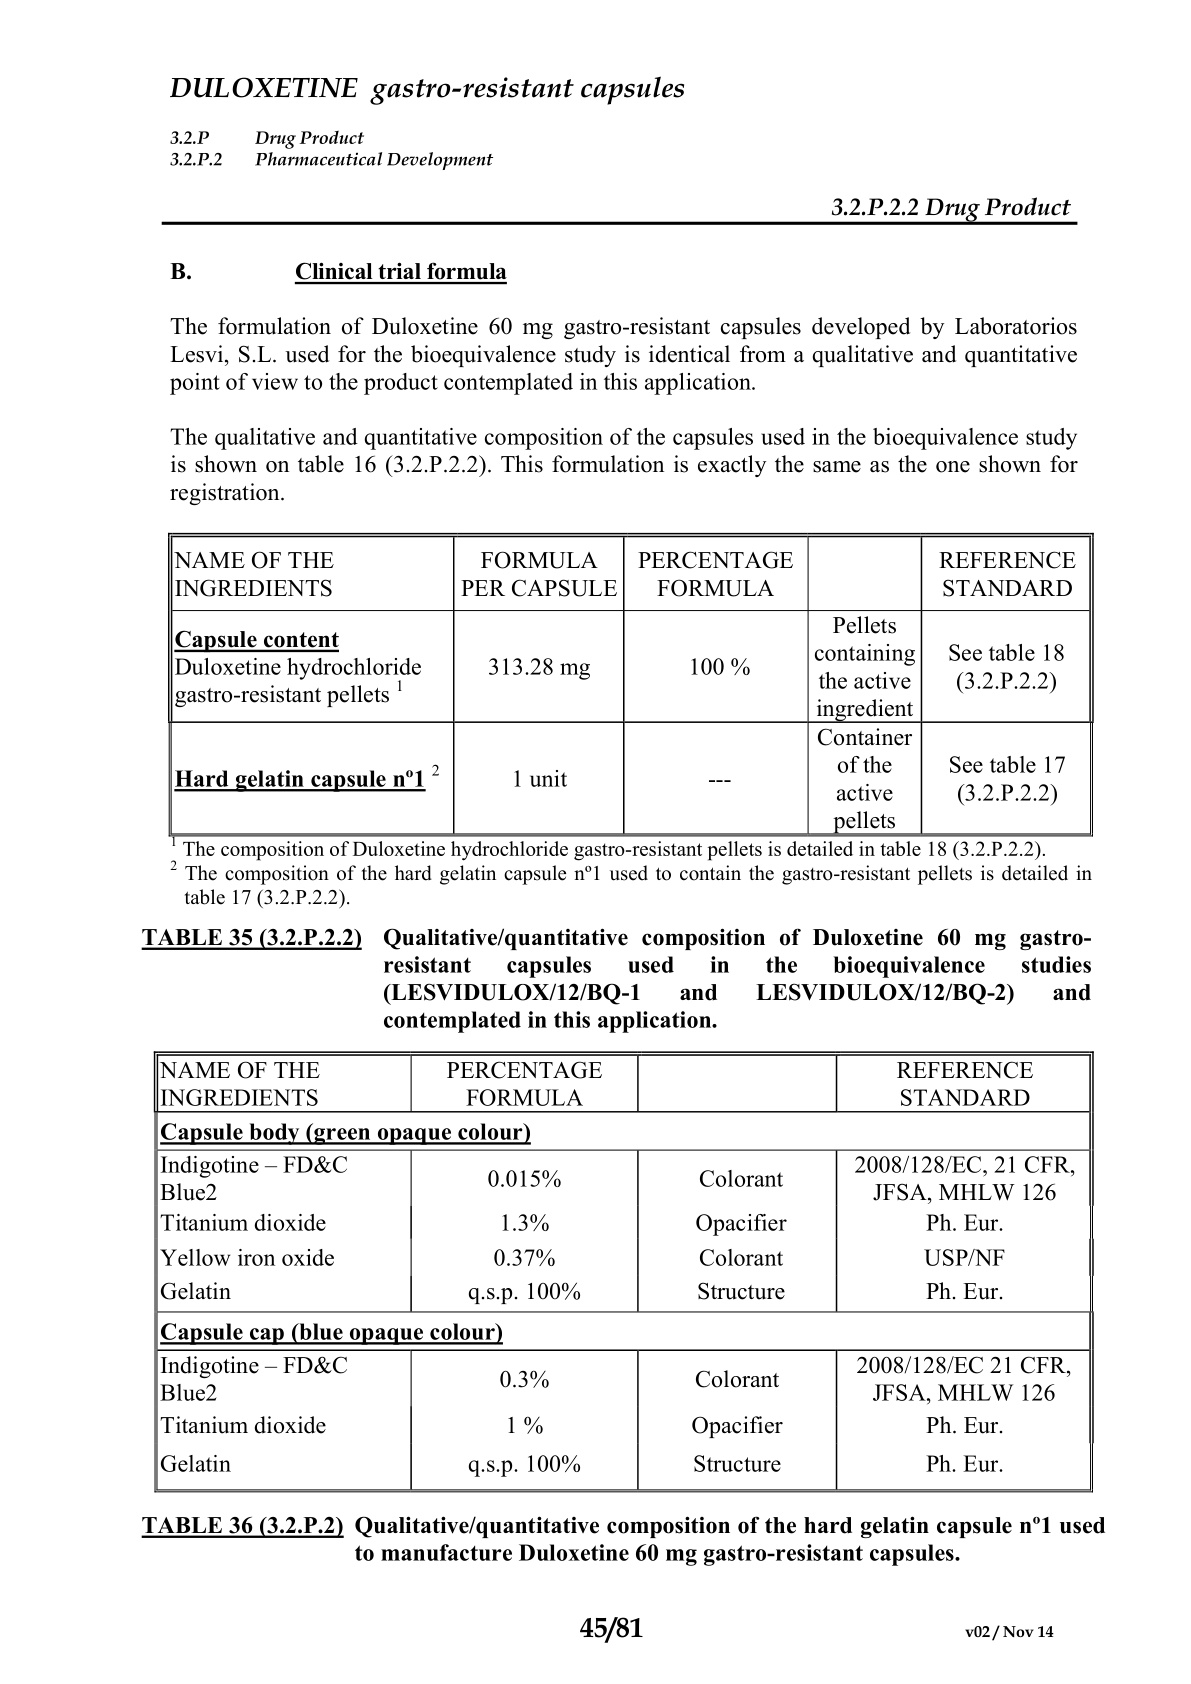full_lined: (166, 532, 1094, 837)
merged_cells: (153, 1049, 1094, 1495)
